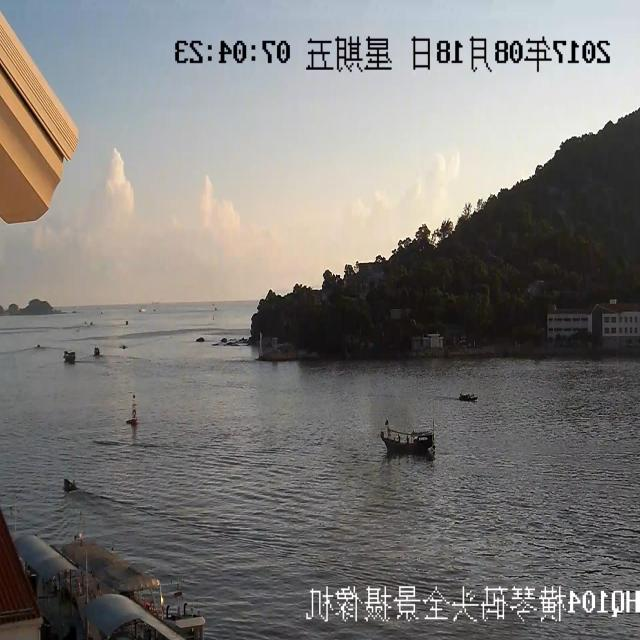buoy: (124, 390, 160, 429)
fishing boat: (372, 408, 448, 473), (448, 378, 484, 414)
reef: (8, 279, 66, 328)
